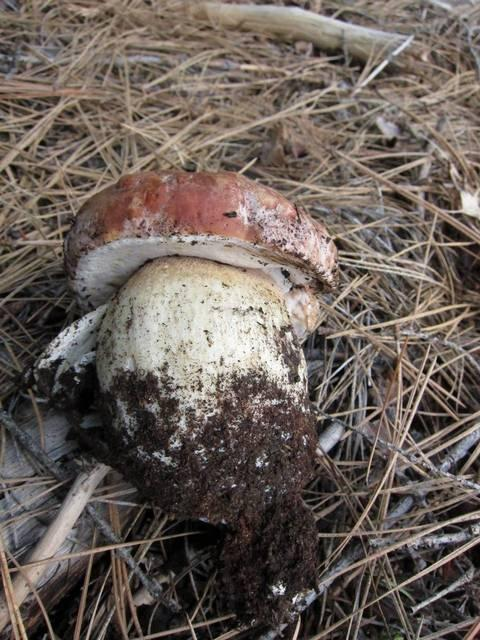Edible Mushroom: (30, 167, 341, 628)
